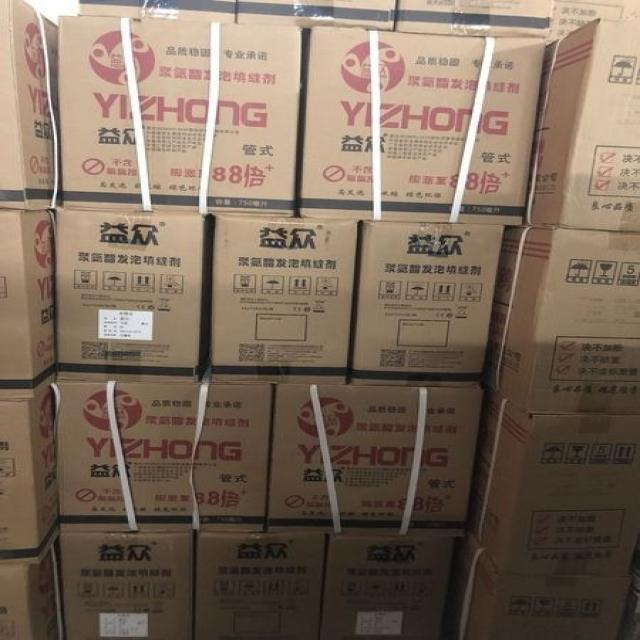box: (58, 16, 303, 218), (304, 29, 545, 227), (54, 380, 276, 533), (460, 385, 639, 574), (267, 382, 482, 535), (478, 223, 639, 415), (57, 209, 209, 383), (350, 219, 505, 385), (210, 214, 359, 385), (528, 19, 639, 233), (445, 538, 639, 639), (316, 534, 462, 639), (191, 531, 327, 639), (63, 533, 192, 638), (0, 383, 61, 564), (0, 207, 57, 399), (2, 535, 65, 639), (393, 1, 553, 39), (235, 0, 400, 32), (78, 2, 238, 25), (549, 1, 639, 40)
